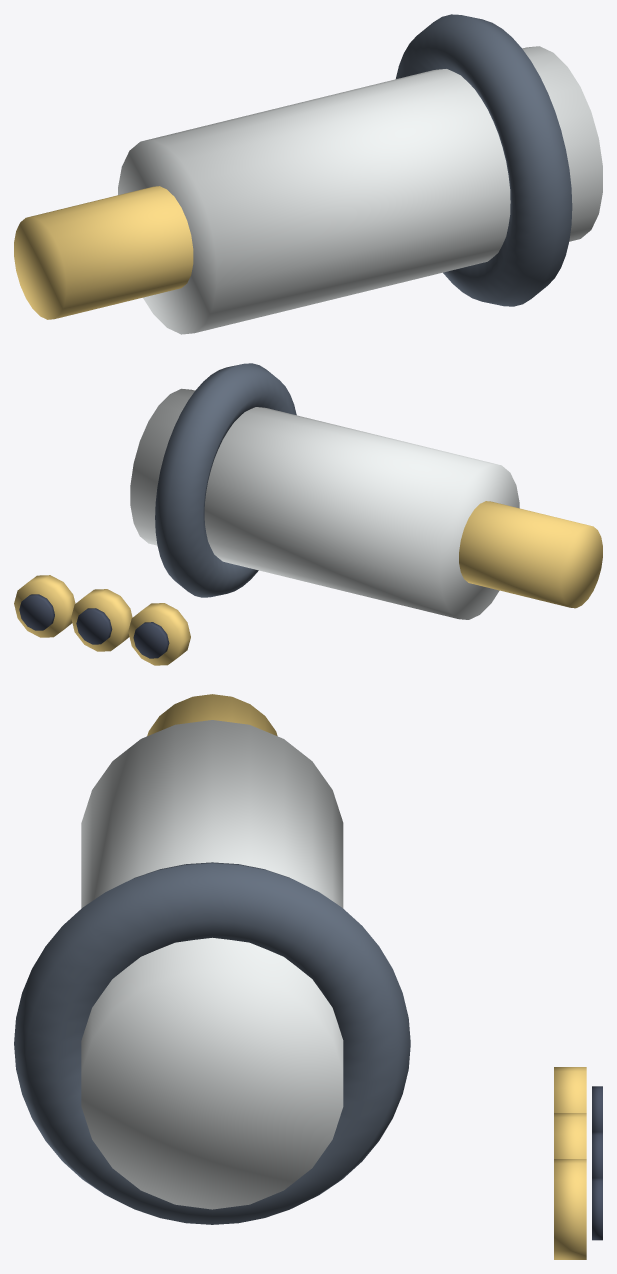
File: L86_40_PrecisionTorqueFasteningDriver_Fitted.fbx
3 views of the same model, one above another, from view 1: azimuth 30°, elevation 25°; view 2: azimuth 150°, elevation 25°; view 3: azimuth 270°, elevation 25° (orthographic). The views are drawn at different scales.
Parts seen in each view (by area): view 1: L86_PrecisionTorqueFasteningDriver_ANIM_FASTENING_DRIVER_SPI (×3); view 2: L86_PrecisionTorqueFasteningDriver_ANIM_FASTENING_DRIVER_SPI (×3), L86_PrecisionTorqueFasteningDriver_Static__tintF2B038, L86_PrecisionTorqueFasteningDriver_Static__tint0F141F; view 3: L86_PrecisionTorqueFasteningDriver_ANIM_FASTENING_DRIVER_SPI (×3), L86_PrecisionTorqueFasteningDriver_Static__tintF2B038, L86_PrecisionTorqueFasteningDriver_Static__tint0F141F.
Part boxes in pixels (box(x1,y1,x2,y2)): L86_PrecisionTorqueFasteningDriver_ANIM_FASTENING_DRIVER_SPI (×3): box(14, 14, 602, 334); L86_PrecisionTorqueFasteningDriver_ANIM_FASTENING_DRIVER_SPI (×3): box(130, 363, 602, 619); L86_PrecisionTorqueFasteningDriver_Static__tintF2B038: box(14, 575, 190, 665); L86_PrecisionTorqueFasteningDriver_Static__tint0F141F: box(19, 594, 169, 658); L86_PrecisionTorqueFasteningDriver_ANIM_FASTENING_DRIVER_SPI (×3): box(14, 694, 410, 1224); L86_PrecisionTorqueFasteningDriver_Static__tintF2B038: box(554, 1067, 586, 1259); L86_PrecisionTorqueFasteningDriver_Static__tint0F141F: box(592, 1086, 602, 1240).
Size of the model in its own units: 10.7 by 4.9 by 7.27.
